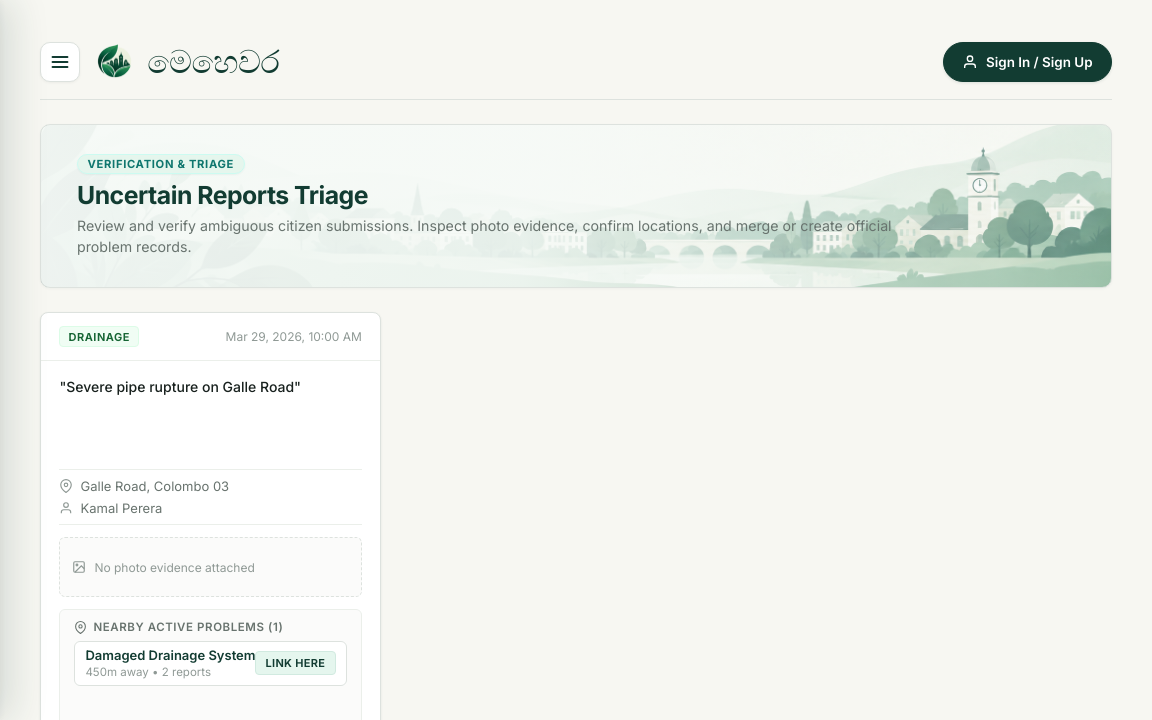
Problem Form Validation Tests (Member 2) › Link Report Form validates that a target problem is selected
Expected: the heading "\"Severe pipe rupture on Galle Road\"" is shown, [59,378,301,395]
// Click "Link Here" next to candidate
Click the button "Link Here".
click(295, 663)  # box [255,651,336,675]
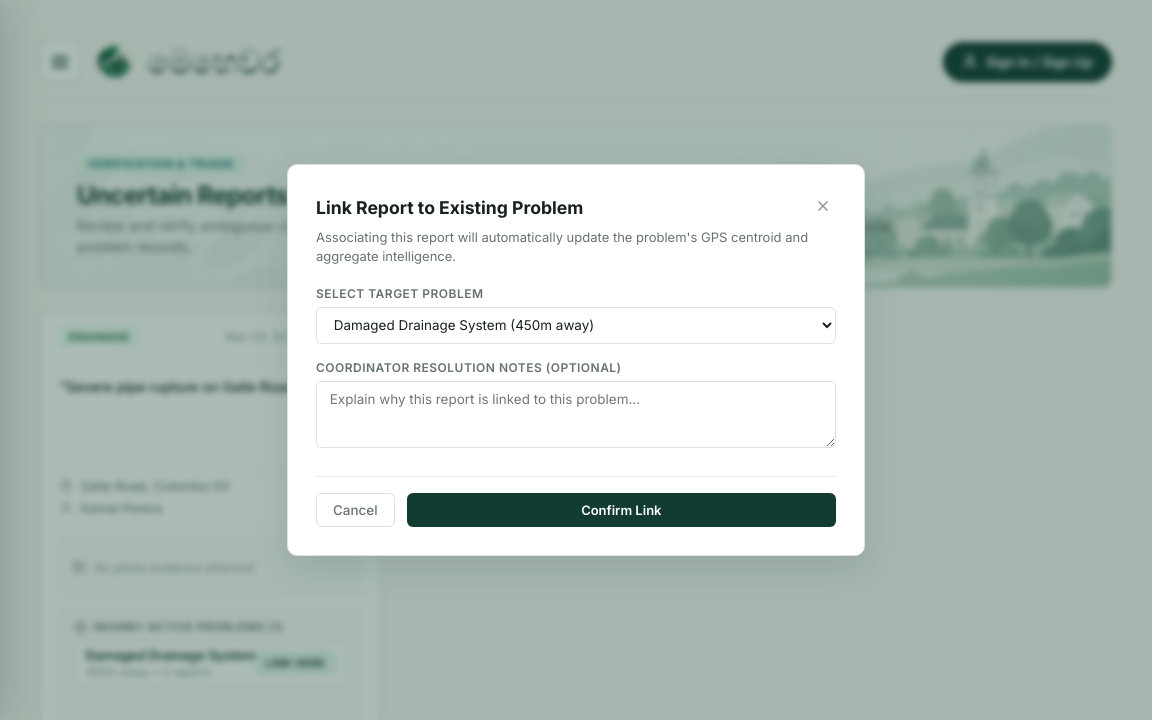
Now the heading "Link Report to Existing Problem" is shown, box [316,197,583,218]
// When reset to empty selection - submit must be disabled
Select "— Choose Problem —" in the dropdown at (576, 325), box [316,306,836,344]
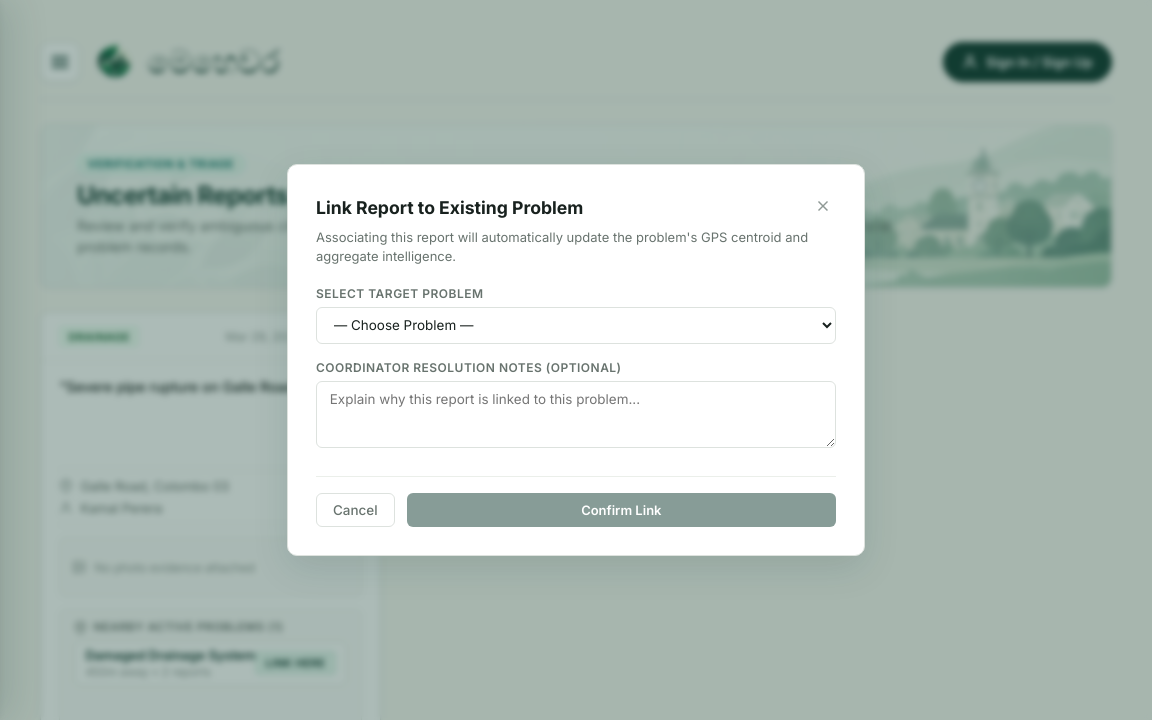
Now the button "Confirm Link" is disabled, box [407,493,836,527]
// When selecting a problem candidate - submit must be enabled
Select "Damaged Drainage System (450m away)" in the dropdown at (576, 325), box [316,306,836,344]
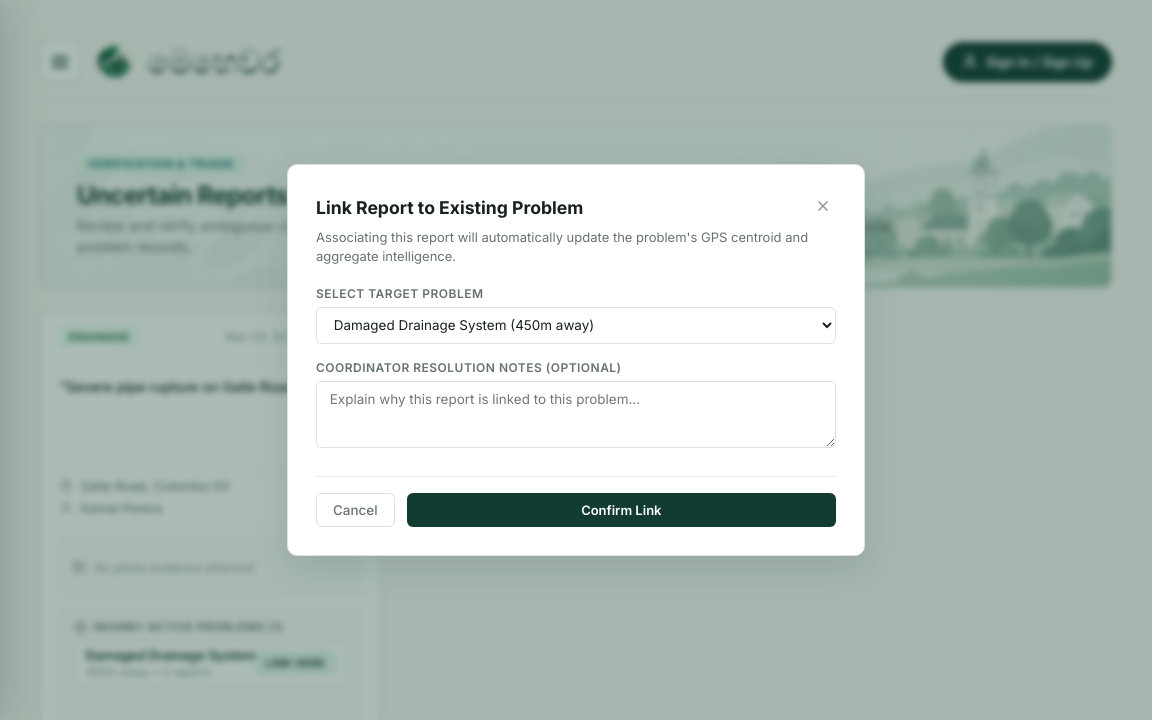
Now the button "Confirm Link" is enabled, box [407,493,836,527]
